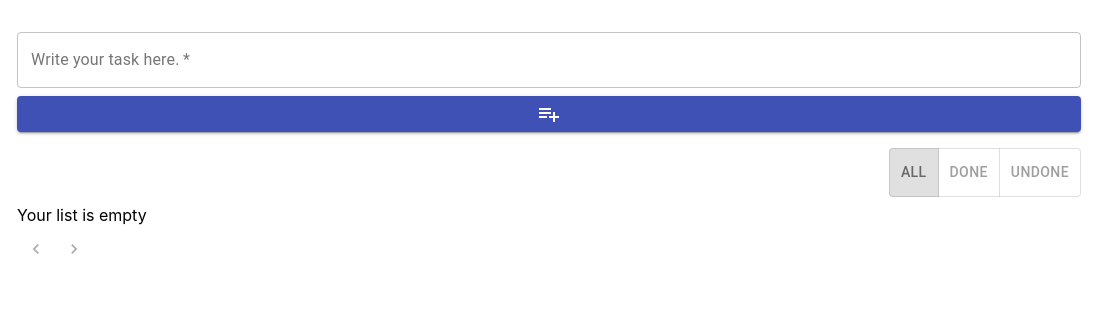
<App/> › should show element that has been added to list
Type "Hello Task!" into the field with id "todo-text" at (549, 60), box 17,32 -> 1081,88
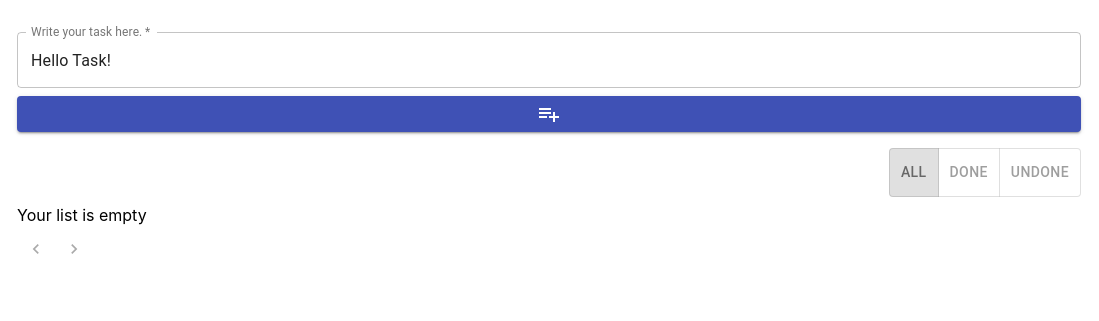
Submit the form with test id "todo_form", box 17,16 -> 1081,132
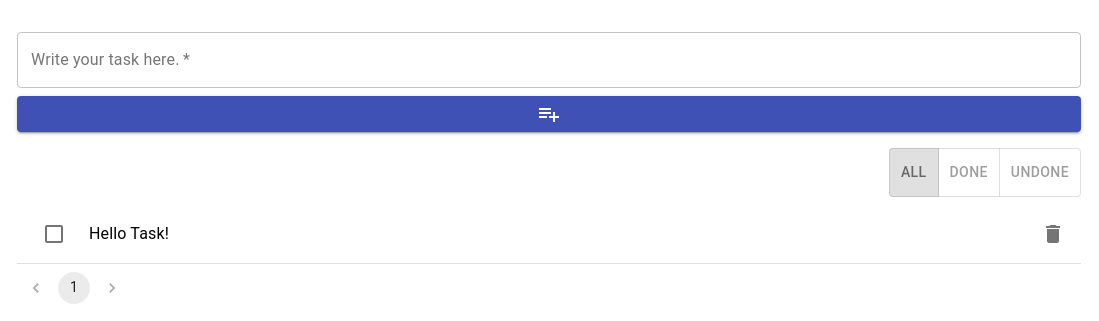
Expected: the text "Hello Task!" is shown, 89,224 -> 169,242
